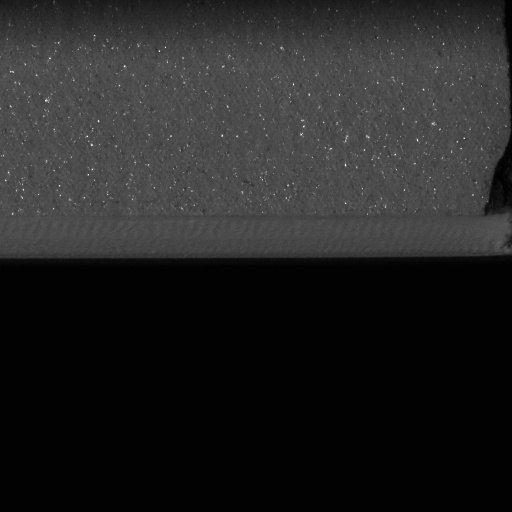bengque: (479, 143, 511, 223)
